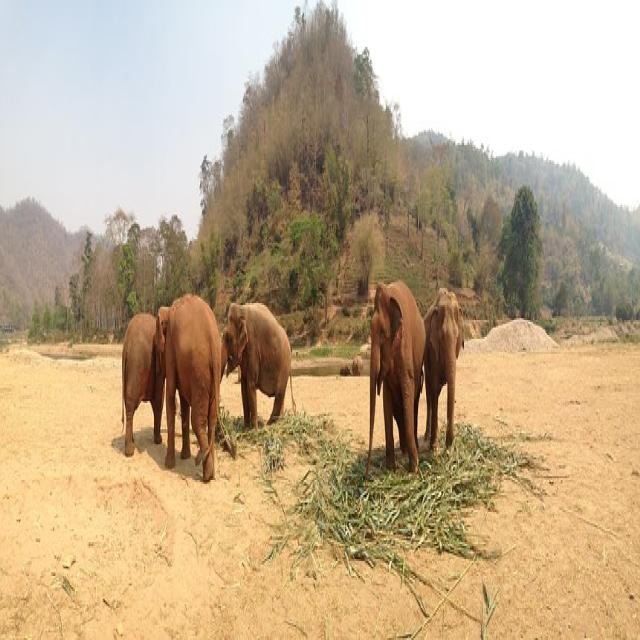Elephant: (118, 278, 221, 488), (353, 262, 429, 510), (424, 263, 508, 478), (219, 283, 307, 451)
